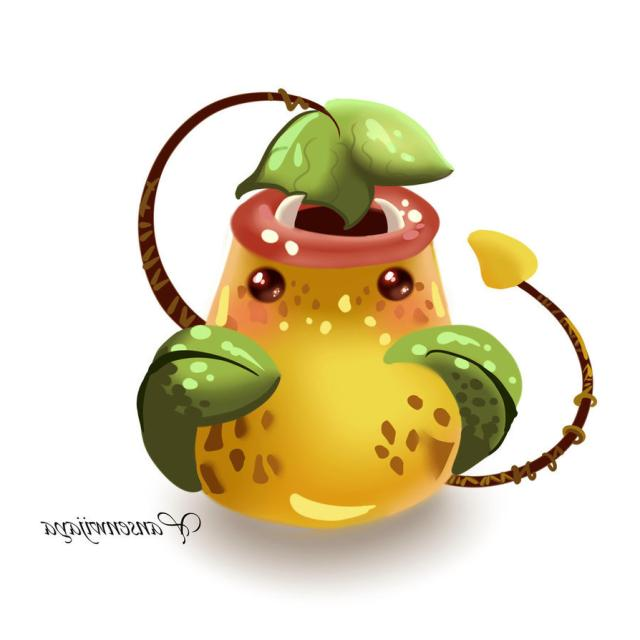Victreebel: (136, 94, 482, 536)
